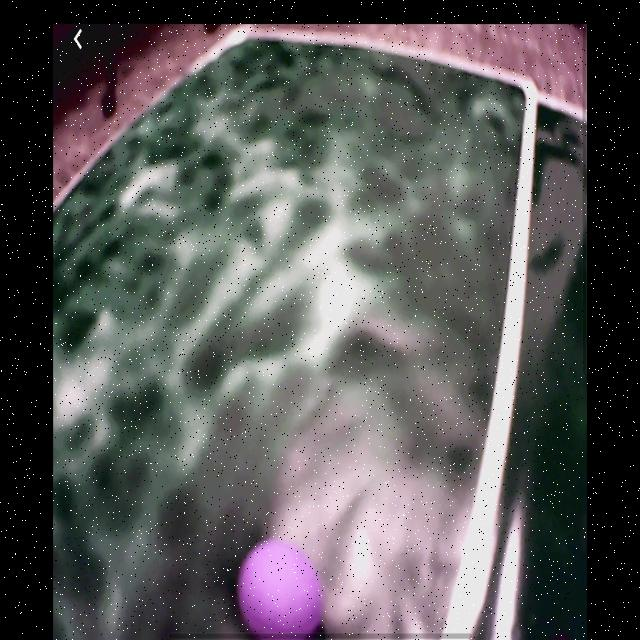ball: (239, 538, 323, 640)
